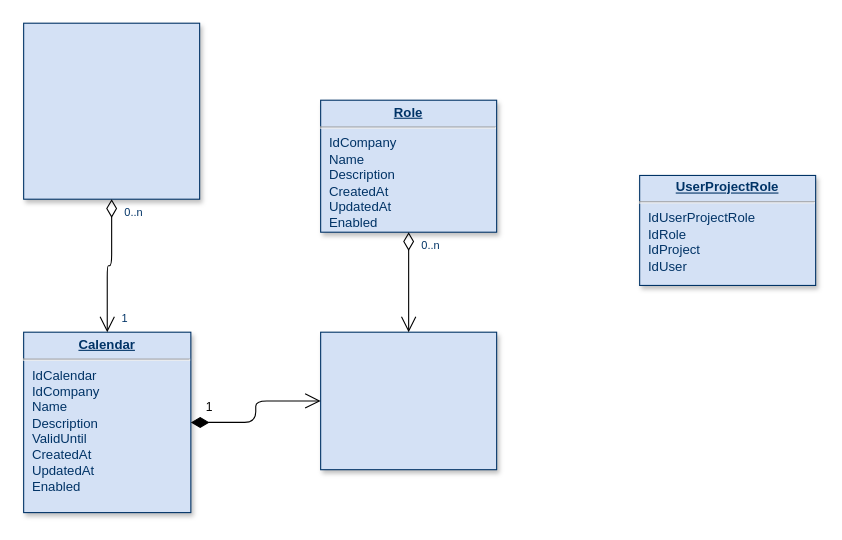
This 842x540 diagram has some shape labels left out. The shapes that lost their labels are listed below. From the top down, each one's centre as x and y in pixels, then its label:
At point (112, 112): "Holiday IdHoliday IdCalendar Name Description Date CreatedAt UpdatedAt Enabled".
At point (409, 402): "Company Name Description CreatedAt UpdatedAt Enabled".
